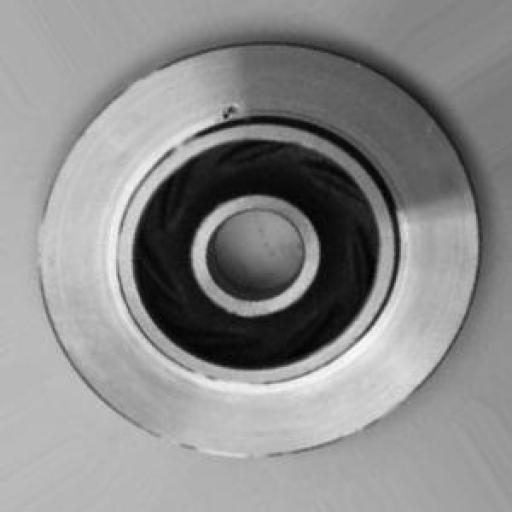defect: (190, 84, 270, 152)
